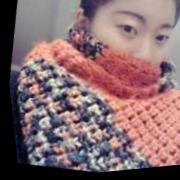WRONG: (68, 1, 180, 116)
